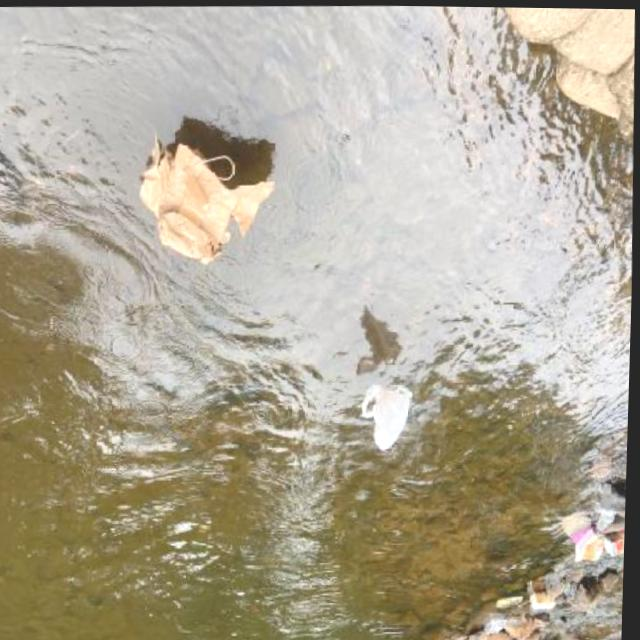Cardboard: (560, 508, 606, 550), (573, 533, 608, 563), (530, 587, 560, 609), (605, 531, 628, 555)
Paper: (131, 121, 282, 274), (498, 590, 527, 607)
Plastic: (356, 374, 419, 458), (484, 610, 511, 633), (596, 505, 618, 531), (565, 572, 583, 598), (595, 498, 619, 515)
